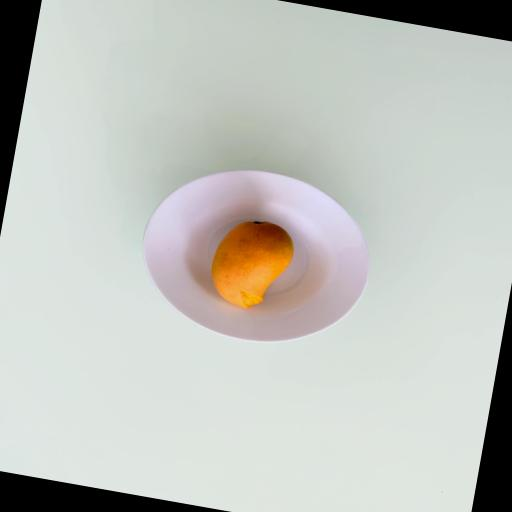Mango-Detection: (91, 134, 412, 398)
